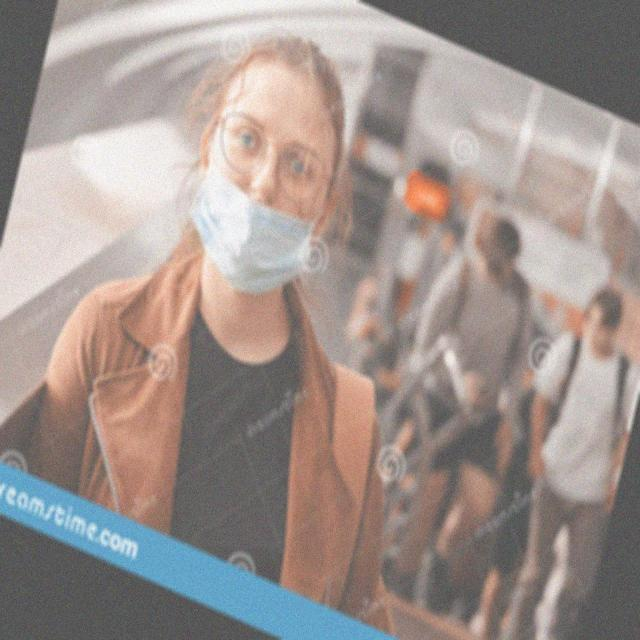hairnet: (192, 81, 344, 280)
